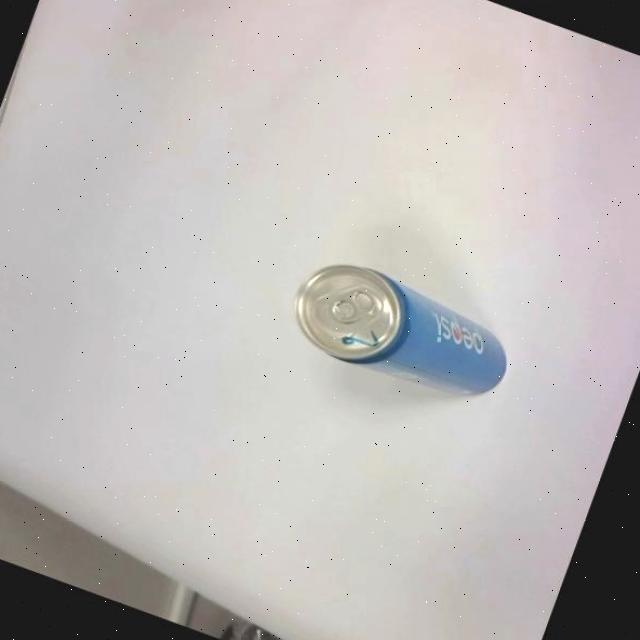debris: (278, 247, 522, 416)
